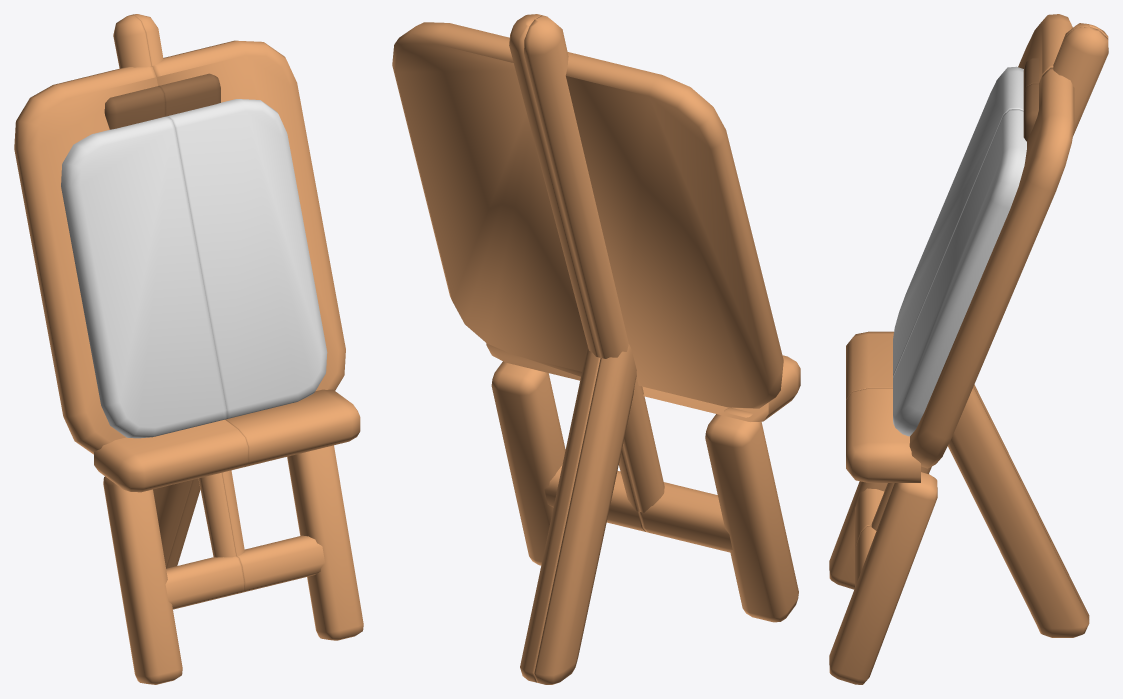
File: SM_CabinetPicture_01b.fbx
The picture shows the model from 3 angles, left to right: view 1: azimuth 30°, elevation 25°; view 2: azimuth 150°, elevation 25°; view 3: azimuth 270°, elevation 25°; orthographic projection. The views are drawn at different scales.
Parts seen in each view (by area): view 1: CabinetPicture_01, CabinetPicture_02; view 2: CabinetPicture_01, CabinetPicture_02; view 3: CabinetPicture_02, CabinetPicture_01.
Boxes of the visible parts, x1,y1,x2,y2 form: CabinetPicture_01: [14, 15, 248, 684]; CabinetPicture_02: [131, 14, 363, 640]; CabinetPicture_01: [524, 15, 800, 684]; CabinetPicture_02: [392, 14, 645, 682]; CabinetPicture_02: [829, 26, 1108, 684]; CabinetPicture_01: [829, 14, 1108, 618].
Bounding box in the file's own units: 16.73 × 32.66 × 13.6.
